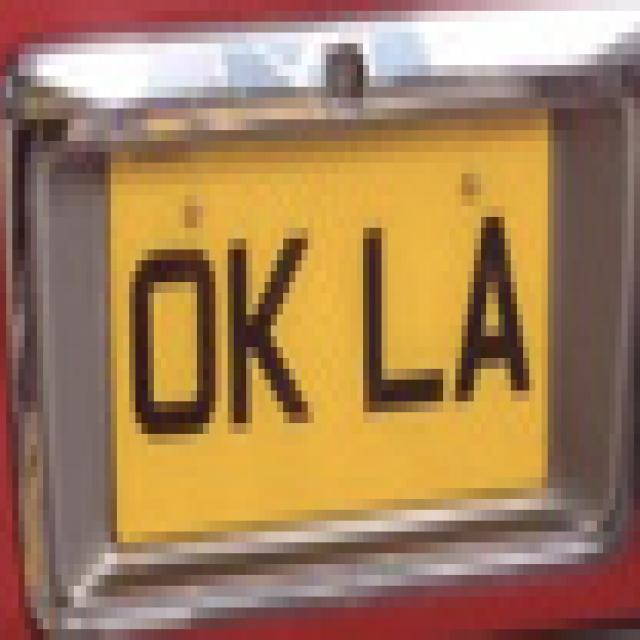A: (452, 193, 532, 422)
K: (222, 216, 317, 462)
L: (356, 207, 452, 423)
O: (125, 226, 219, 452)
